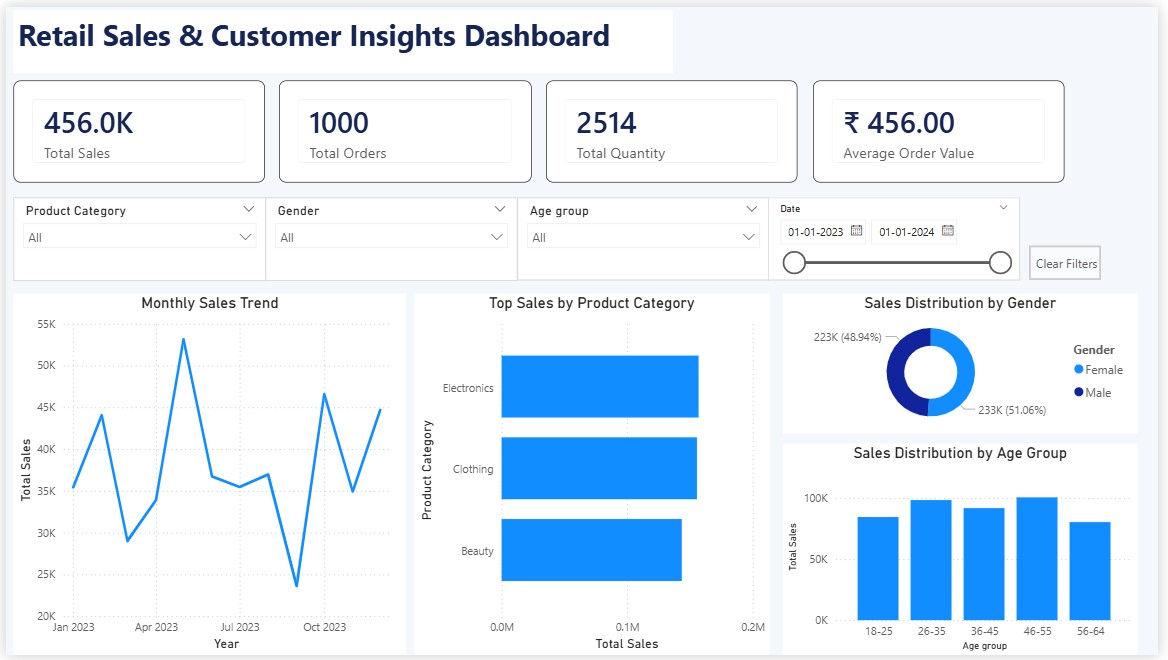

This screenshot's page, from the dashboard's own definition file:
{"tool":"powerbi","page":{"name":"Dashboard","canvas":[1280,720],"ordinal":0},"visuals":[{"type":"cardVisual","fields":{"Data":["retail_sales_dataset.Total Sales"]},"box":[8.8,82.1,279.6,113],"z":0,"group":"g1"},{"type":"slicer","fields":{"Values":["retail_sales_dataset.Product Category"]},"box":[9,211.1,280.8,92.8],"z":1000,"group":"g2"},{"type":"cardVisual","fields":{"Data":["retail_sales_dataset.Total Orders"]},"box":[304.3,82.1,280.8,113],"z":2000,"group":"g1"},{"type":"slicer","fields":{"Values":["retail_sales_dataset.Gender"]},"box":[289.3,211.3,280,92.5],"z":3000,"group":"g2"},{"type":"cardVisual","fields":{"Data":["retail_sales_dataset.Total Quantity"]},"box":[601,82.1,279.6,113],"z":4000,"group":"g1"},{"type":"slicer","fields":{"Values":["retail_sales_dataset.Age group"]},"box":[568.7,211.4,279.9,92.3],"z":5000,"group":"g2"},{"type":"cardVisual","fields":{"Data":["retail_sales_dataset.Average Order Value"]},"box":[896.5,82.1,279.6,113],"z":6000,"group":"g1"},{"type":"slicer","fields":{"Values":["retail_sales_dataset.Date"]},"box":[848.1,211.4,279.9,92.3],"z":7000,"group":"g2"},{"type":"lineChart","title":"Monthly Sales Trend ","fields":{"Y":["retail_sales_dataset.Total Sales"],"Category":["retail_sales_dataset.Date.Variation.Date Hierarchy.Year","retail_sales_dataset.Date.Variation.Date Hierarchy.Month"]},"box":[8.8,318.8,436.2,401.2],"z":8000},{"type":"clusteredBarChart","title":"Top Sales by Product Category","fields":{"Category":["retail_sales_dataset.Product Category"],"Y":["retail_sales_dataset.Total Sales"]},"box":[453.8,318.8,395,401.2],"z":9000},{"type":"donutChart","title":"Sales Distribution by Gender","fields":{"Category":["retail_sales_dataset.Gender"],"Y":["retail_sales_dataset.Total Sales"]},"box":[862.5,318.8,393.8,155],"z":10000},{"type":"clusteredColumnChart","title":"Sales Distribution by Age Group","fields":{"Y":["retail_sales_dataset.Total Sales"],"Category":["retail_sales_dataset.Age group"]},"box":[862.5,485,393.8,235],"z":11000},{"type":"actionButton","box":[1136.7,265,80,38.3],"z":12000,"group":"g2"},{"type":"textbox","box":[8.8,2.5,732.5,70],"z":13000},{"type":"group","id":"g1","title":"Group 1","box":[8.8,82.1,1167.4,113],"z":13001},{"type":"group","id":"g2","title":"Group 2","box":[9,211.1,1207.7,92.8],"z":13002}]}

Visuals, with their boxes in screenshot pixels (x1, y1, x2, y2), scaled from the page's 1280x720 canvas onto the 1168x660 screenshot:
cardVisual - retail_sales_dataset.Total Sales: {"left": 8, "top": 75, "right": 263, "bottom": 179}
slicer - retail_sales_dataset.Product Category: {"left": 8, "top": 194, "right": 264, "bottom": 279}
cardVisual - retail_sales_dataset.Total Orders: {"left": 278, "top": 75, "right": 534, "bottom": 179}
slicer - retail_sales_dataset.Gender: {"left": 264, "top": 194, "right": 519, "bottom": 278}
cardVisual - retail_sales_dataset.Total Quantity: {"left": 548, "top": 75, "right": 804, "bottom": 179}
slicer - retail_sales_dataset.Age group: {"left": 519, "top": 194, "right": 774, "bottom": 278}
cardVisual - retail_sales_dataset.Average Order Value: {"left": 818, "top": 75, "right": 1073, "bottom": 179}
slicer - retail_sales_dataset.Date: {"left": 774, "top": 194, "right": 1029, "bottom": 278}
"Monthly Sales Trend " lineChart: {"left": 8, "top": 292, "right": 406, "bottom": 659}
"Top Sales by Product Category" clusteredBarChart: {"left": 414, "top": 292, "right": 775, "bottom": 659}
"Sales Distribution by Gender" donutChart: {"left": 787, "top": 292, "right": 1146, "bottom": 434}
"Sales Distribution by Age Group" clusteredColumnChart: {"left": 787, "top": 445, "right": 1146, "bottom": 659}
actionButton: {"left": 1037, "top": 243, "right": 1110, "bottom": 278}
textbox: {"left": 8, "top": 2, "right": 676, "bottom": 66}
"Group 1" group: {"left": 8, "top": 75, "right": 1073, "bottom": 179}
"Group 2" group: {"left": 8, "top": 194, "right": 1110, "bottom": 279}
